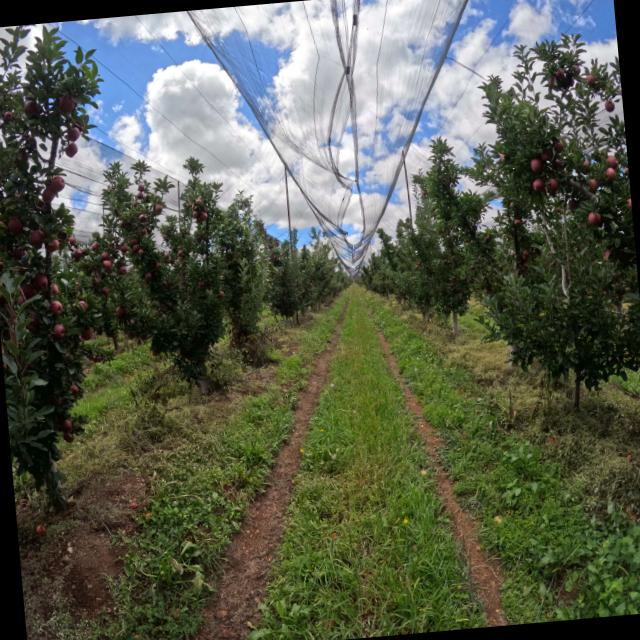-FireBlight-: (17, 285, 26, 305), (9, 328, 15, 345), (1, 343, 4, 353), (0, 277, 3, 286)
